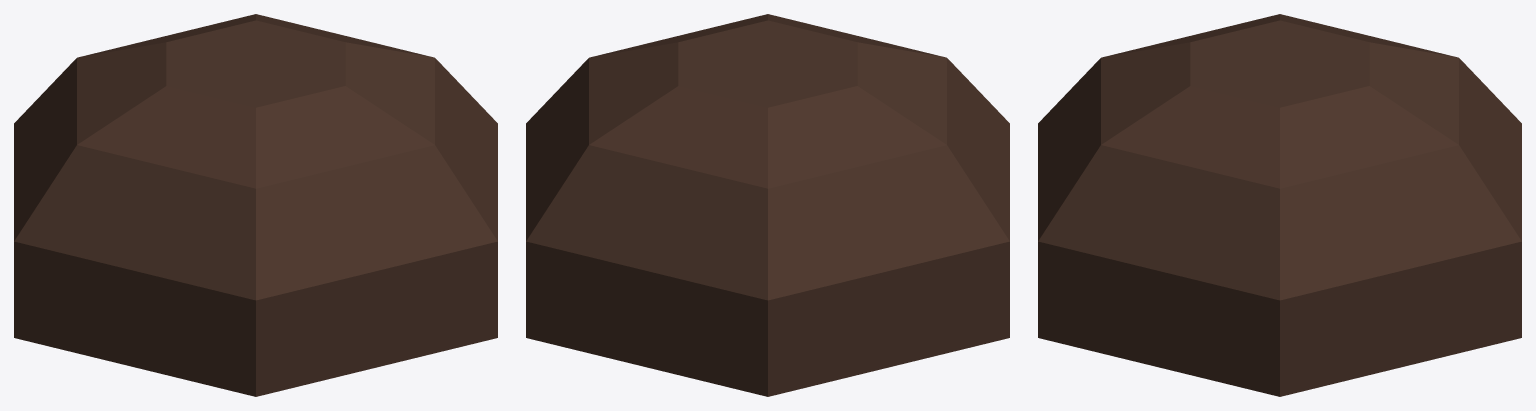
The model's file is Meteorite Half.glb.
3 views of the same model, side by side, from view 1: azimuth 30°, elevation 25°; view 2: azimuth 150°, elevation 25°; view 3: azimuth 270°, elevation 25° (orthographic).
Visible parts, largest first — view 1: meteor_half; view 2: meteor_half; view 3: meteor_half.
Boxes of the visible parts, <box> form: meteor_half: <box>14,14,497,396</box>; meteor_half: <box>526,14,1009,396</box>; meteor_half: <box>1038,14,1521,396</box>.
Size of the model in its own units: 0.866 by 0.3675 by 0.75.
